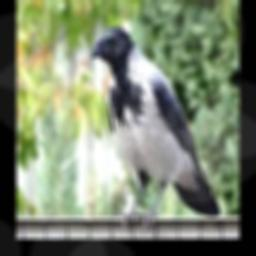Crow: (91, 26, 221, 236)
